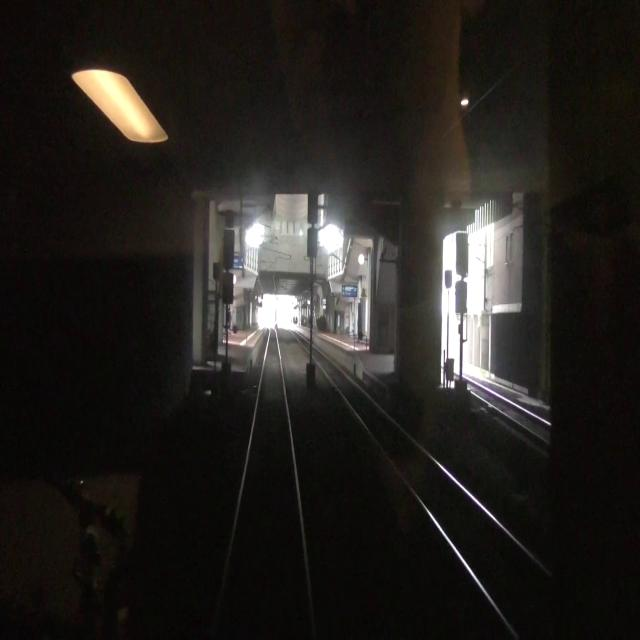rail-track: (312, 348, 584, 639), (216, 329, 311, 639), (454, 376, 551, 439)
